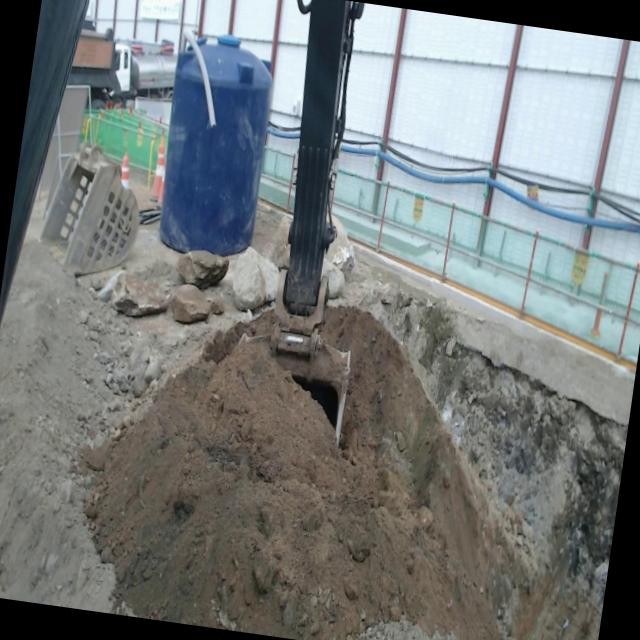stone: (233, 247, 280, 310), (112, 272, 172, 317), (170, 284, 225, 324), (177, 250, 229, 289), (323, 216, 355, 276), (270, 215, 292, 268), (330, 280, 336, 298)
white-sand: (0, 242, 628, 640)
